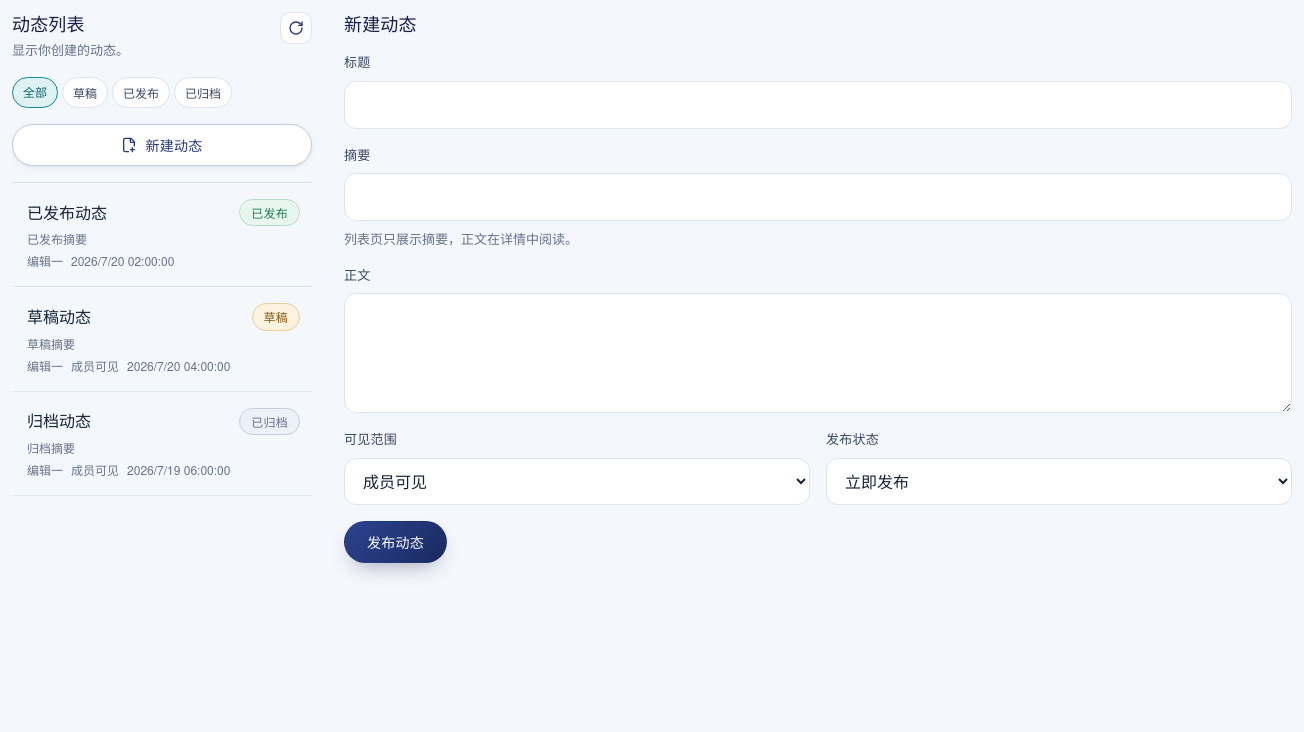
Scenario: AdminNews manage workspace › publishes a draft without losing the editing context
Click the button with class "record-item" that starts with "草稿动态": (59, 317) top-left (12, 288), bottom-right (312, 392)
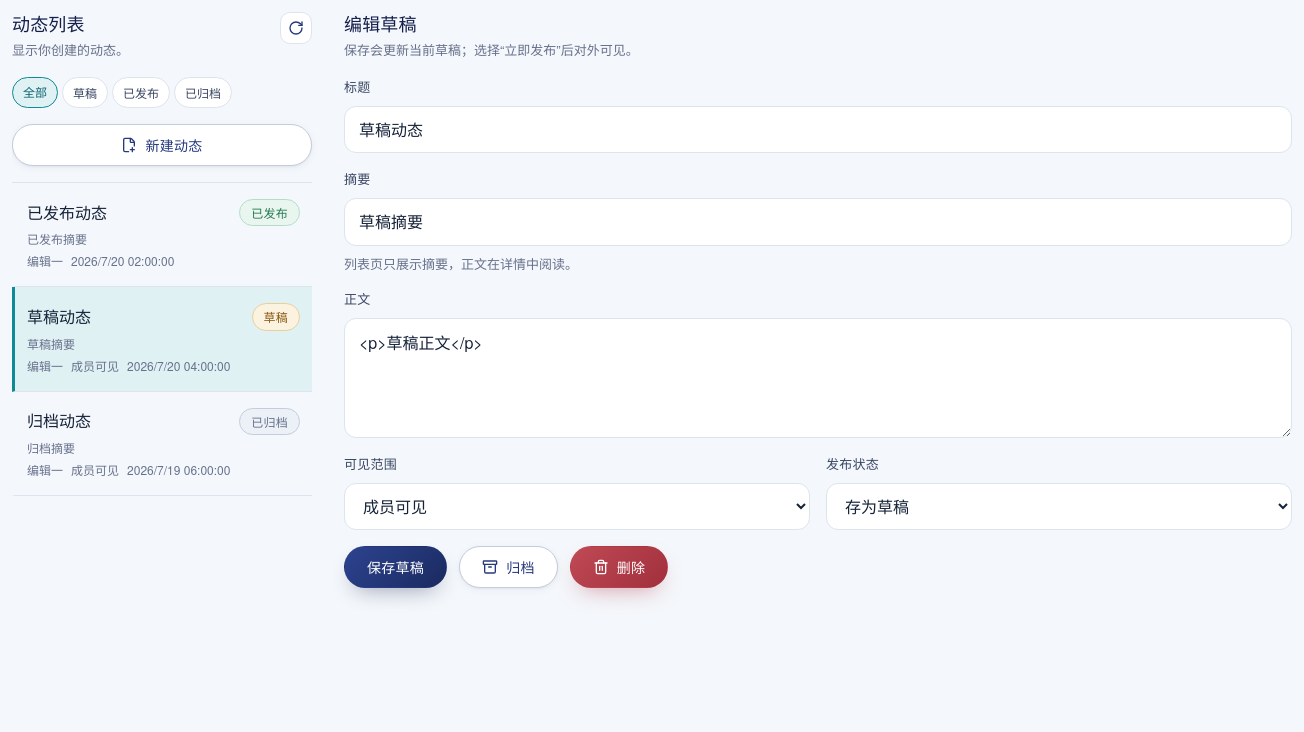
Expected: the heading "编辑草稿" is shown, top-left (344, 11), bottom-right (417, 37)
Select "立即发布" in the dropdown with id "news-status": (1059, 506) top-left (826, 483), bottom-right (1292, 530)
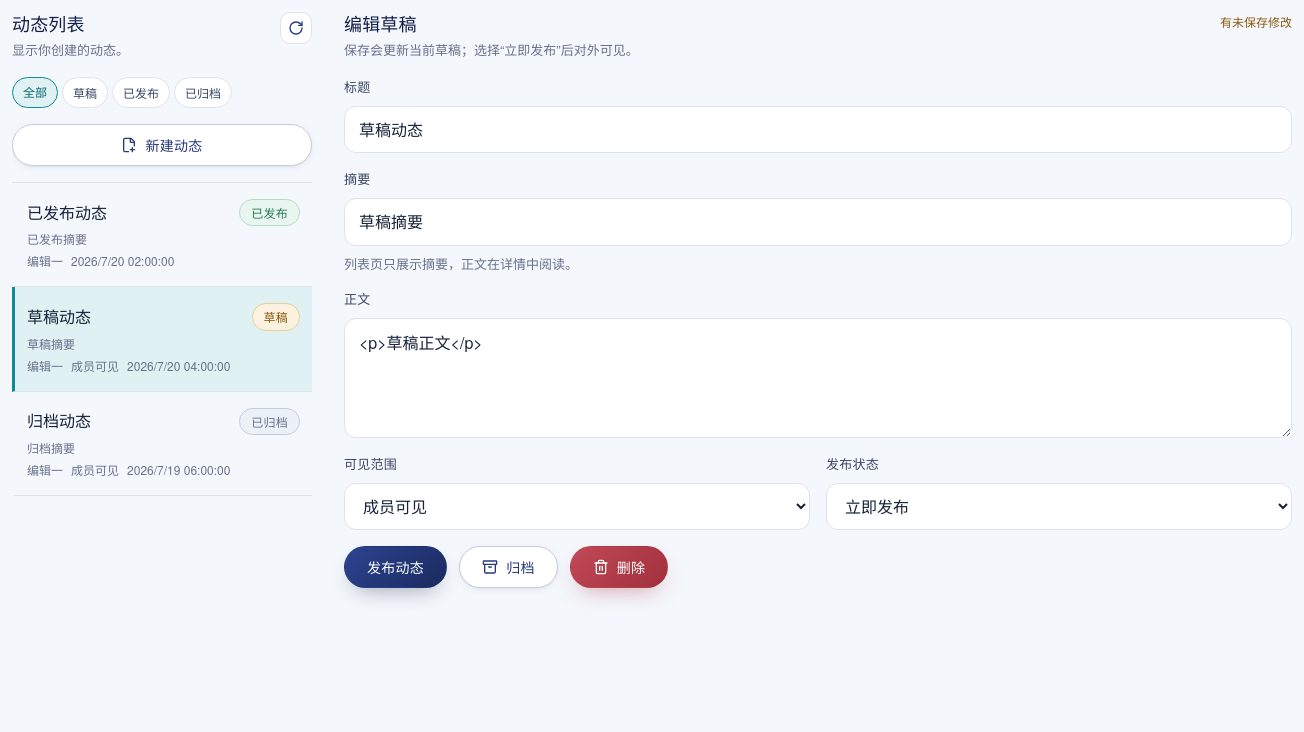
Submit the form from the button with class "submit-button", box top-left (344, 546), bottom-right (447, 588)
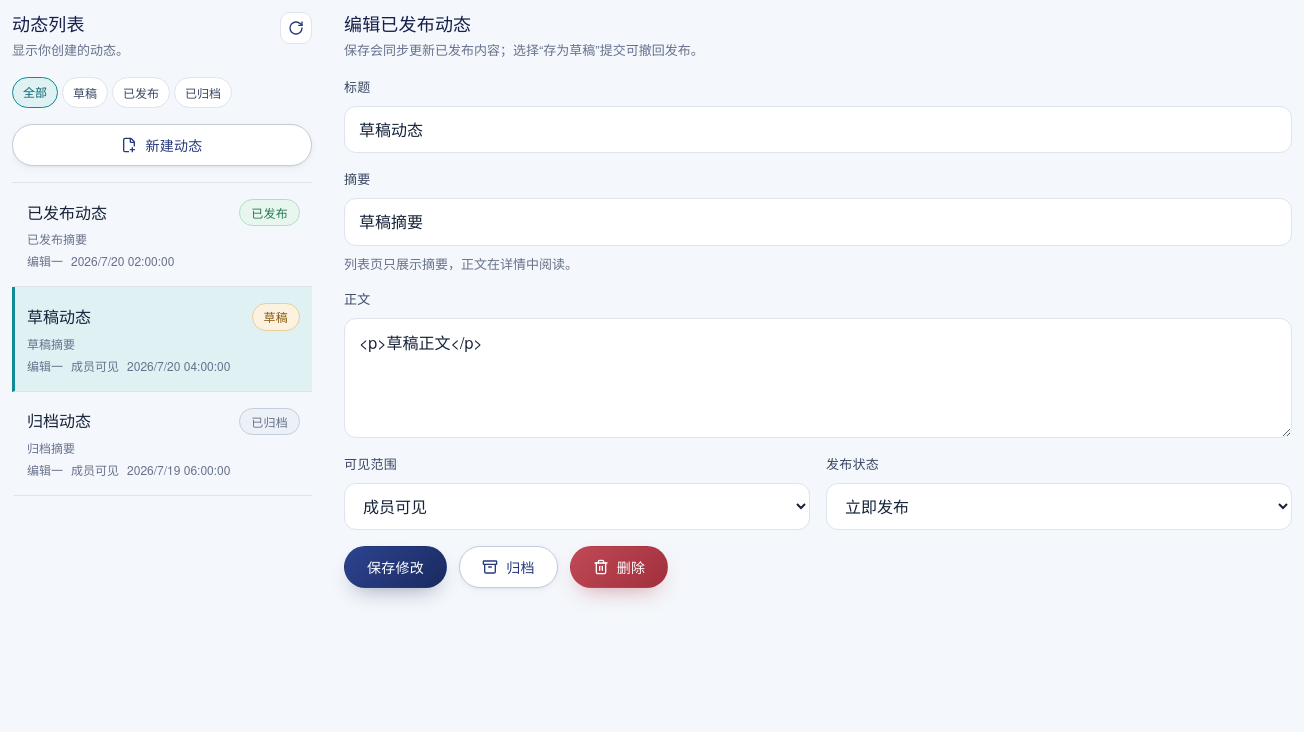
Expected: the heading "编辑已发布动态" is shown, top-left (344, 11), bottom-right (471, 37)
